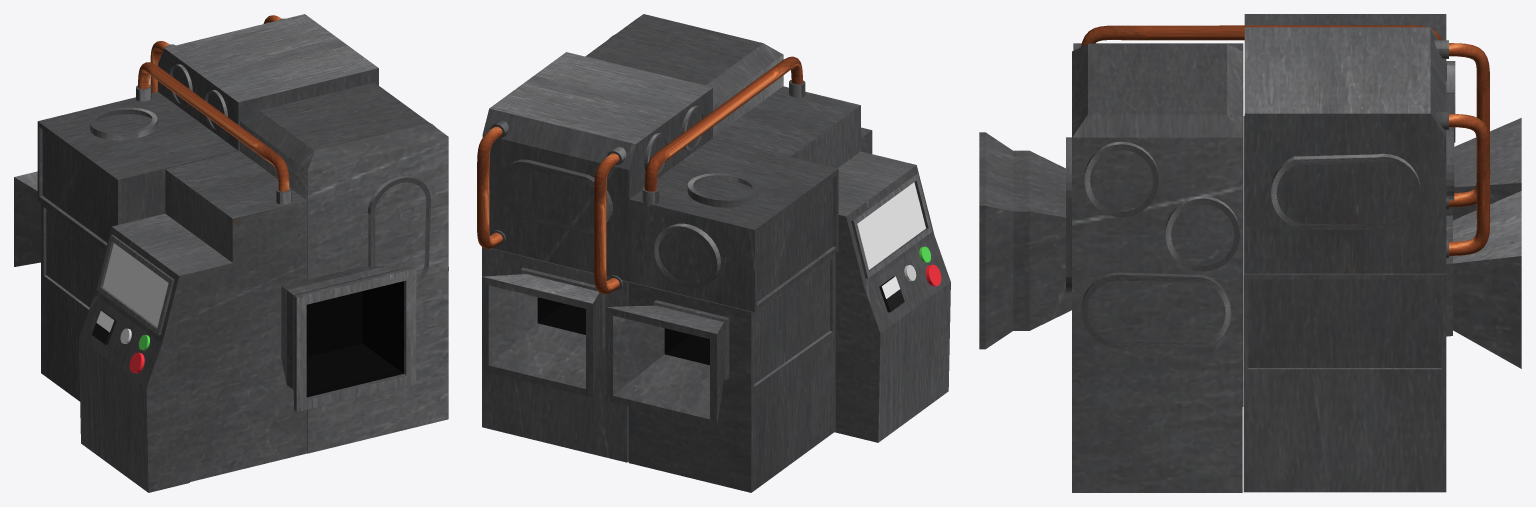
Rendered from Maquina Clasificadora de Metales.fbx.
3 renders of one model, left to right at view 1: azimuth 30°, elevation 25°; view 2: azimuth 150°, elevation 25°; view 3: azimuth 270°, elevation 25°, orthographic. The views are drawn at different scales.
Visible parts, largest first — view 1: Maquina Clasificadora.003, Maquina Clasificadora.008, Maquina Clasificadora.002, Maquina Clasificadora.004, Maquina Clasificadora.007; view 2: Maquina Clasificadora.003, Maquina Clasificadora.004, Maquina Clasificadora.002, Maquina Clasificadora.007, Maquina Clasificadora.008; view 3: Maquina Clasificadora.003, Maquina Clasificadora.002, Maquina Clasificadora.004.
Boxes of the visible parts, x1,y1,x2,y2 form: Maquina Clasificadora.003: (14,14,448,492); Maquina Clasificadora.008: (306,281,403,397); Maquina Clasificadora.002: (90,64,448,286); Maquina Clasificadora.004: (138,15,289,191); Maquina Clasificadora.007: (103,243,168,327); Maquina Clasificadora.003: (482,14,950,492); Maquina Clasificadora.004: (477,56,802,294); Maquina Clasificadora.002: (498,34,758,288); Maquina Clasificadora.007: (857,182,925,269); Maquina Clasificadora.008: (537,297,709,365); Maquina Clasificadora.003: (979,14,1521,492); Maquina Clasificadora.002: (1066,23,1455,347); Maquina Clasificadora.004: (1081,25,1490,255).
Size of the model in its own units: 300 by 282 by 365.
